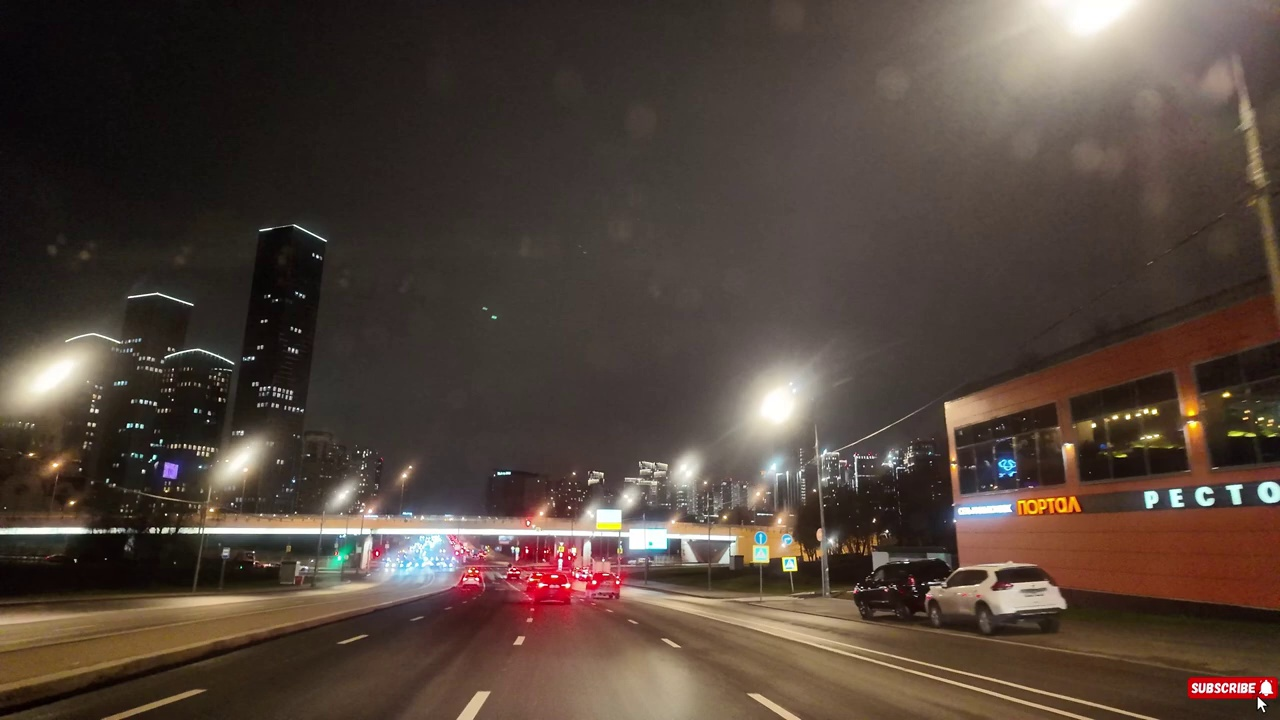acesa: (1026, 4, 1148, 59), (13, 347, 92, 408), (751, 374, 806, 433), (216, 440, 266, 489), (671, 453, 700, 486)
